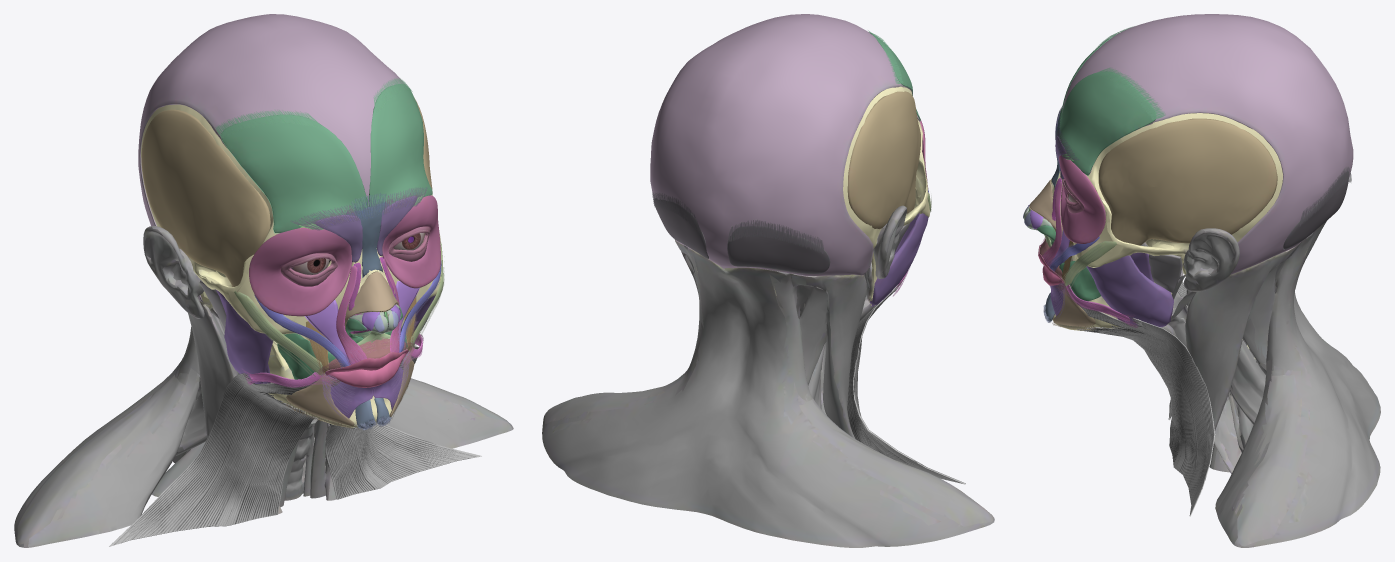
Rendered from 头部肌肉_黄种人_女_V8_std_opt_20260905111512.glb.
The picture shows the model from 3 angles, left to right: view 1: azimuth 30°, elevation 25°; view 2: azimuth 150°, elevation 25°; view 3: azimuth 270°, elevation 25°; orthographic projection. The views are drawn at different scales.
Parts seen in each view (by area): view 1: Mesh_Deform_0, Mesh_(2)_Static_0, Mesh_(3)_(2)_Plastyma_0, Skiedras3DC, Mesh__(2)_Acs_0, Mesh__(4)_AcsLeca_0; view 2: Mesh_(2)_Static_0, Mesh_Deform_0, Skiedras3DC, Mesh_(3)_(2)_Plastyma_0; view 3: Mesh_Deform_0, Mesh_(2)_Static_0, Mesh_(3)_(2)_Plastyma_0, Skiedras3DC.
Boxes of the visible parts, <box> form: Mesh_Deform_0: <box>138,14,443,428</box>; Mesh_(2)_Static_0: <box>14,104,513,547</box>; Mesh_(3)_(2)_Plastyma_0: <box>109,346,481,546</box>; Skiedras3DC: <box>143,78,444,430</box>; Mesh__(2)_Acs_0: <box>291,233,424,274</box>; Mesh__(4)_AcsLeca_0: <box>292,233,424,274</box>; Mesh_(2)_Static_0: <box>542,86,994,547</box>; Mesh_Deform_0: <box>650,14,930,306</box>; Skiedras3DC: <box>652,30,931,296</box>; Mesh_(3)_(2)_Plastyma_0: <box>847,278,965,484</box>; Mesh_Deform_0: <box>1023,14,1353,327</box>; Mesh_(2)_Static_0: <box>1050,113,1380,547</box>; Mesh_(3)_(2)_Plastyma_0: <box>1058,281,1215,516</box>; Skiedras3DC: <box>1041,26,1351,330</box>.
Bounding box in the file's own units: 0.4378 × 0.4 × 0.309.
8 materials, 5 textured.
